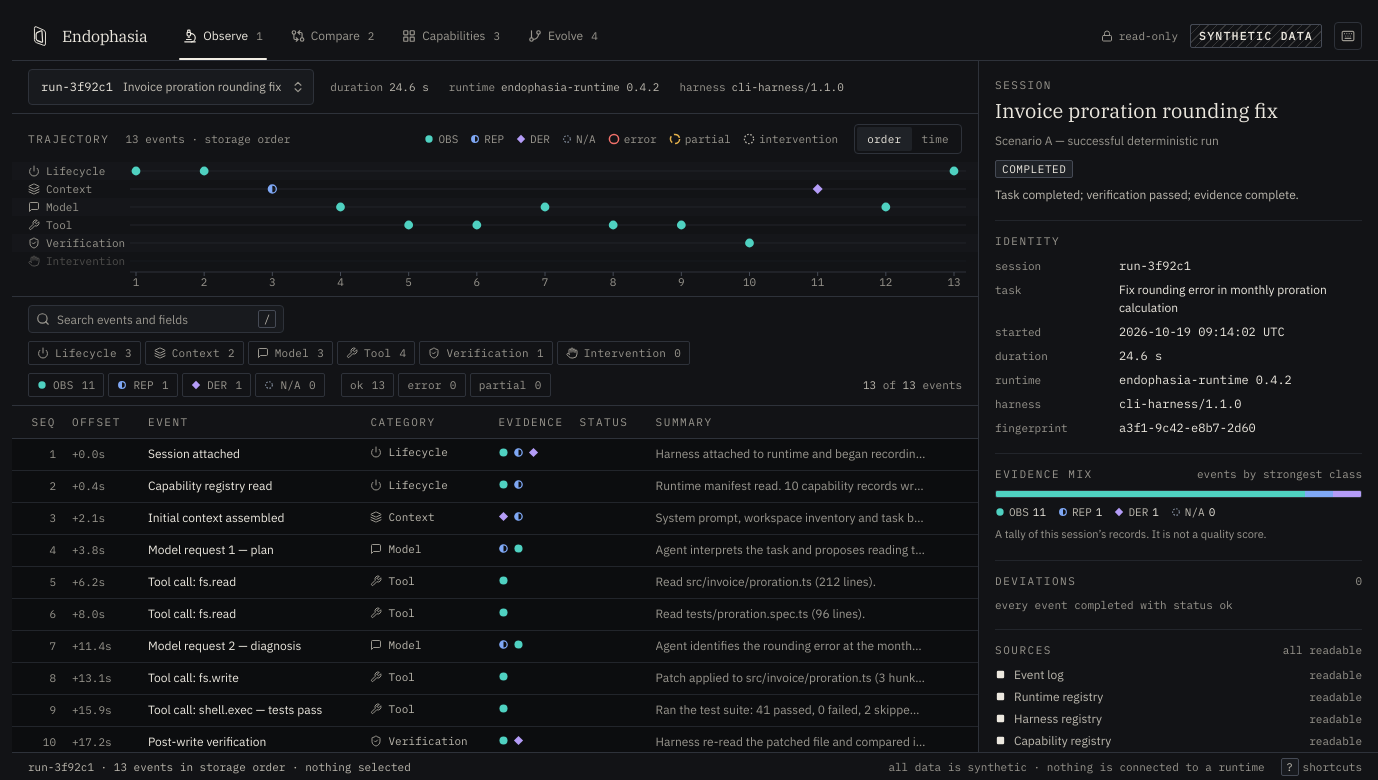
Test: Compare states its limits › says an exact link does not establish equivalence, and that a pair with no compared field can be proposed but never exact
Press 2
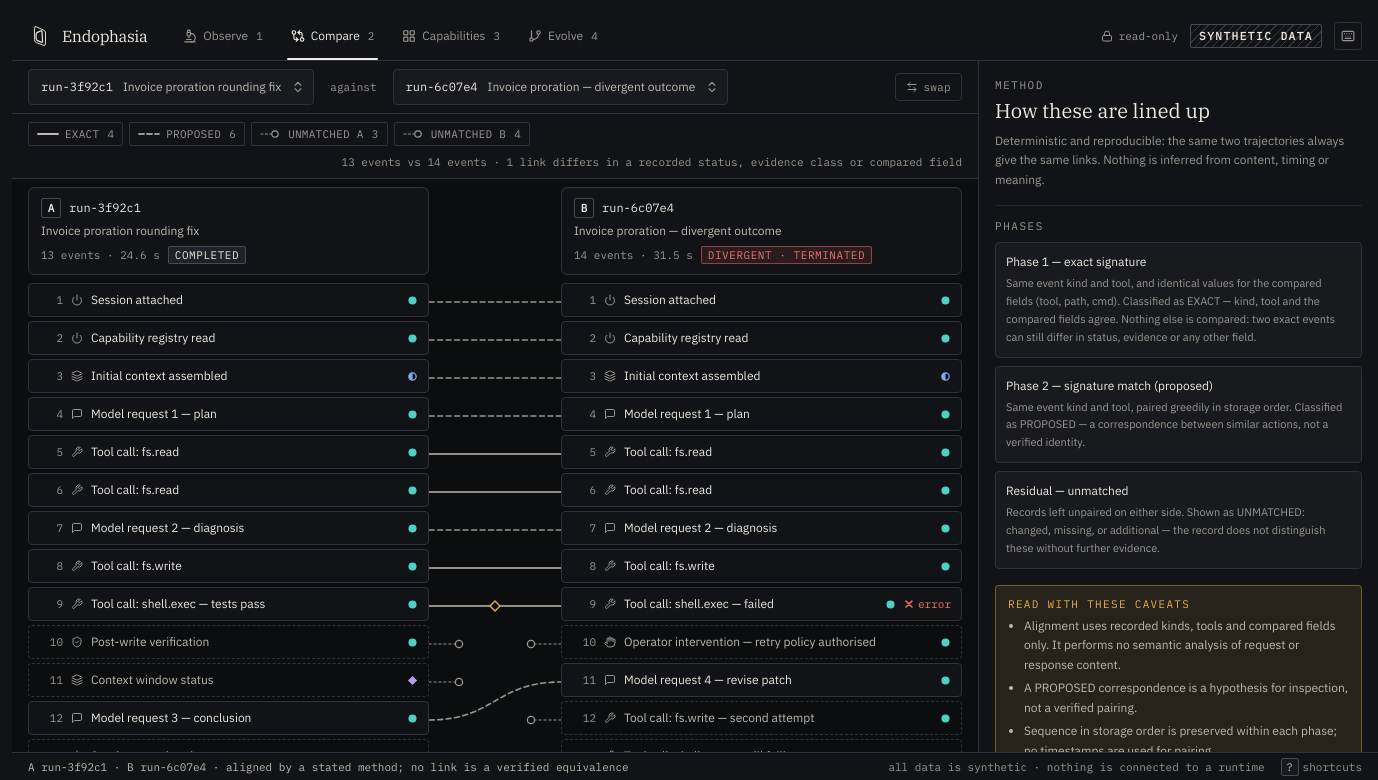
Click the 1st button "5 Tool call: fs.read": [135, 452] box [28, 435, 429, 469]
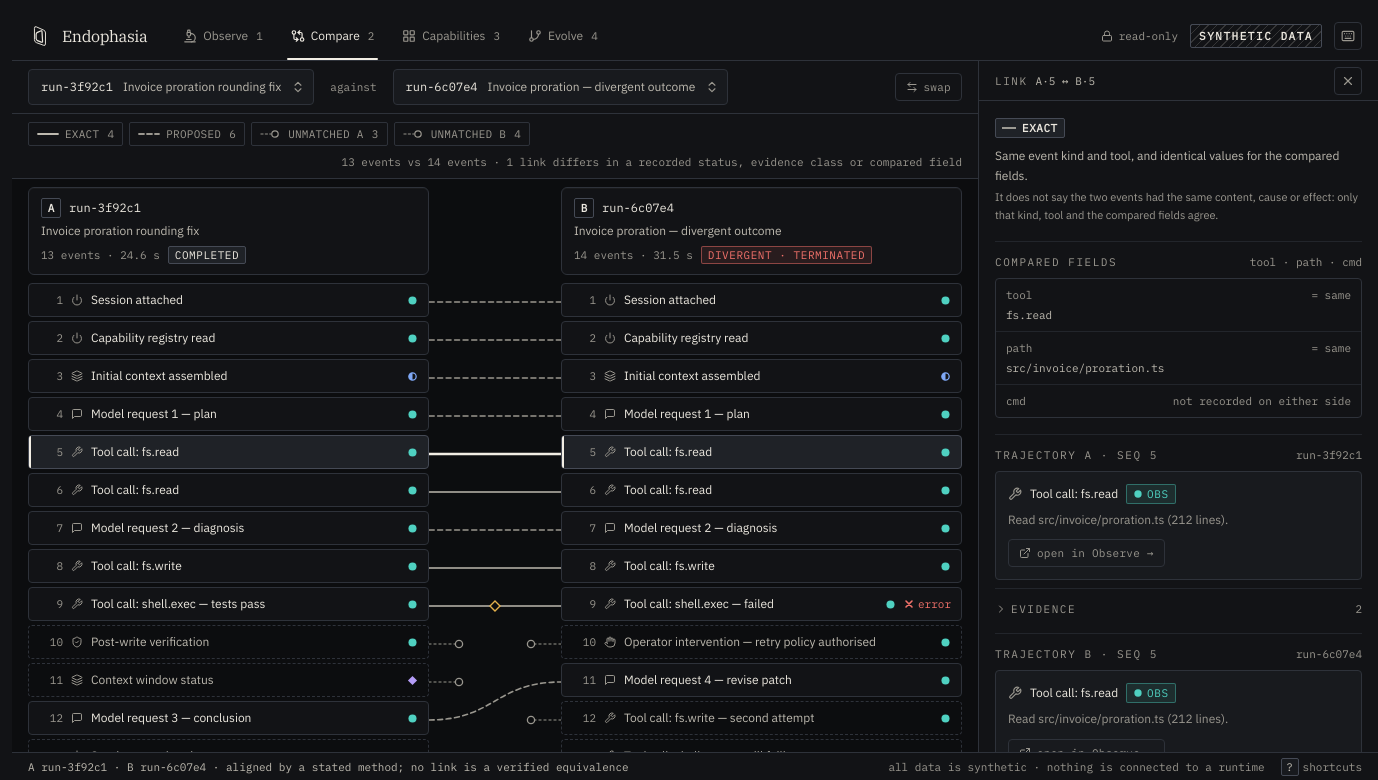
Expected: the text "does not say the two events had the same content" is shown, [995, 190, 1358, 222]
Click the 1st button "1 Session attached": [137, 300] box [28, 283, 429, 317]
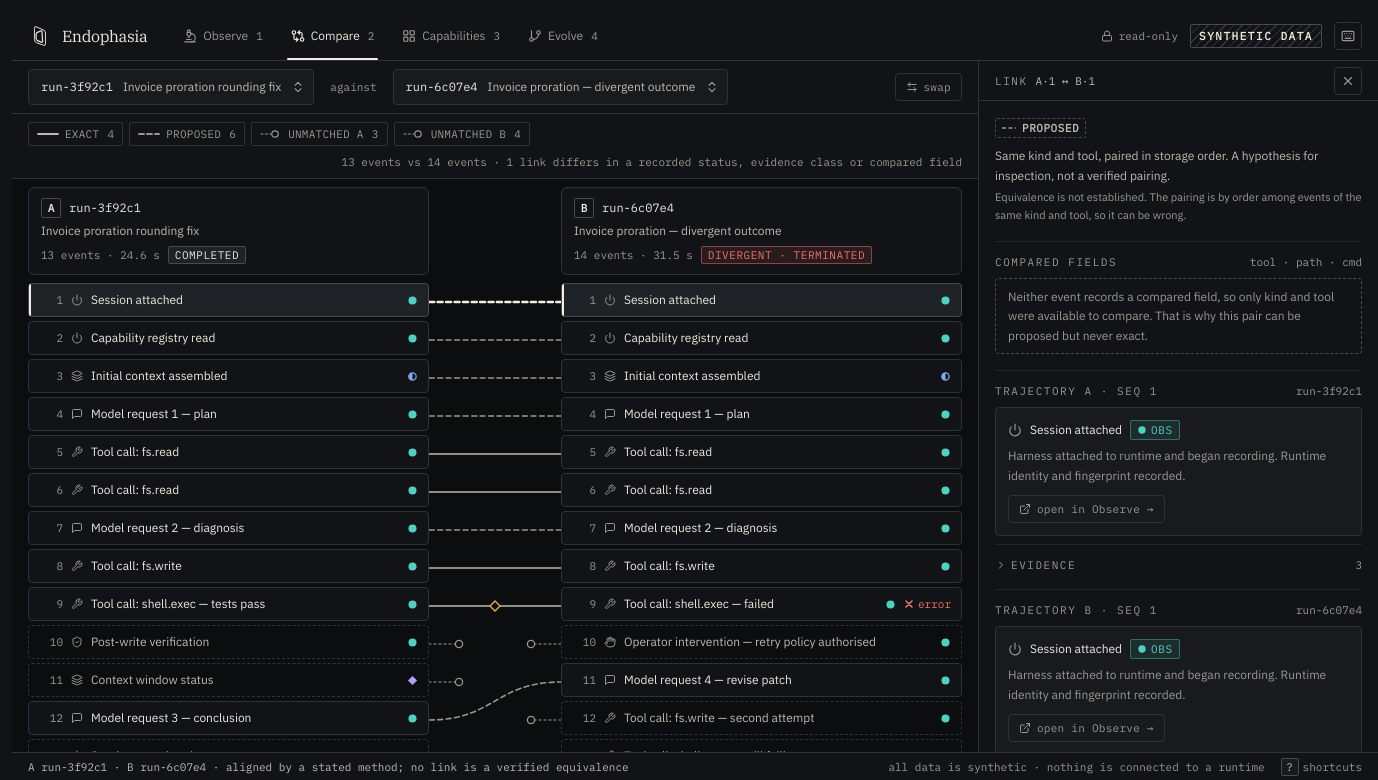
Expected: the text "proposed but never exact" is shown, [1008, 289, 1334, 343]
Expected: the text "not a verified pairing" is shown, [995, 148, 1318, 182]
